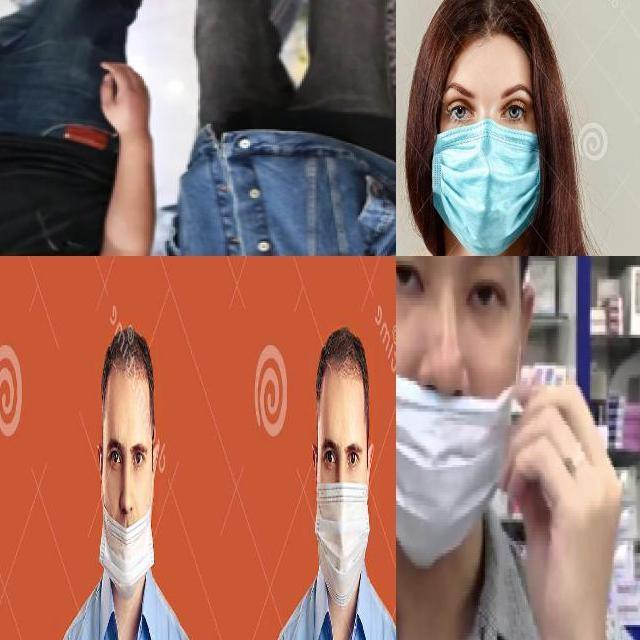hairnet: (396, 322, 517, 554), (105, 473, 151, 580)
